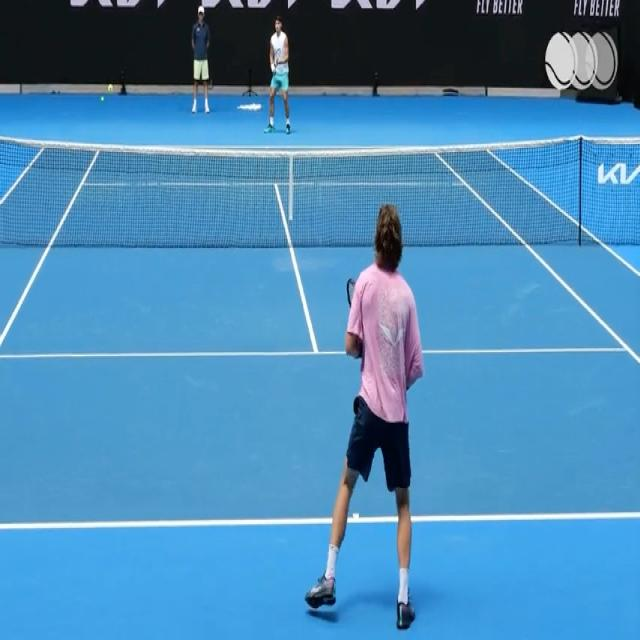ready-position: (306, 205, 422, 625)
